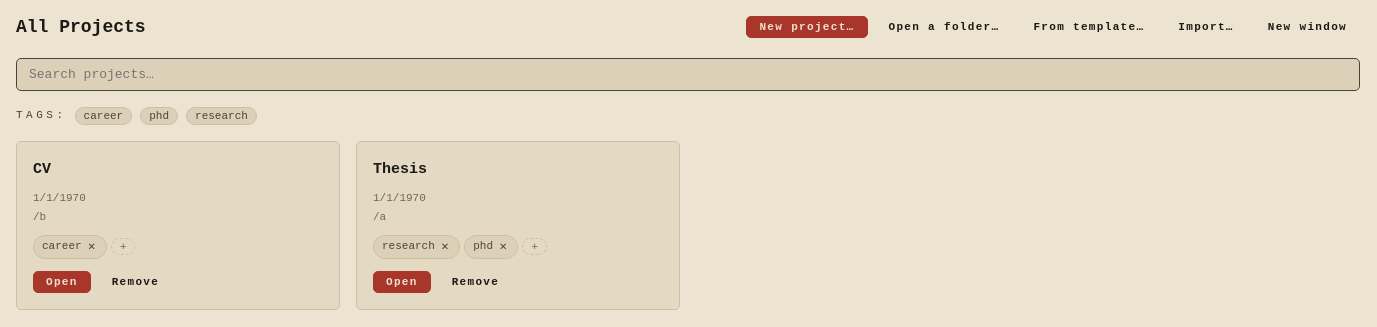
ProjectDashboard tag filters › filters by tag when a pill is clicked
'career' tag pill
Click the button "career".
click(103, 116)  # box [75,107,132,125]
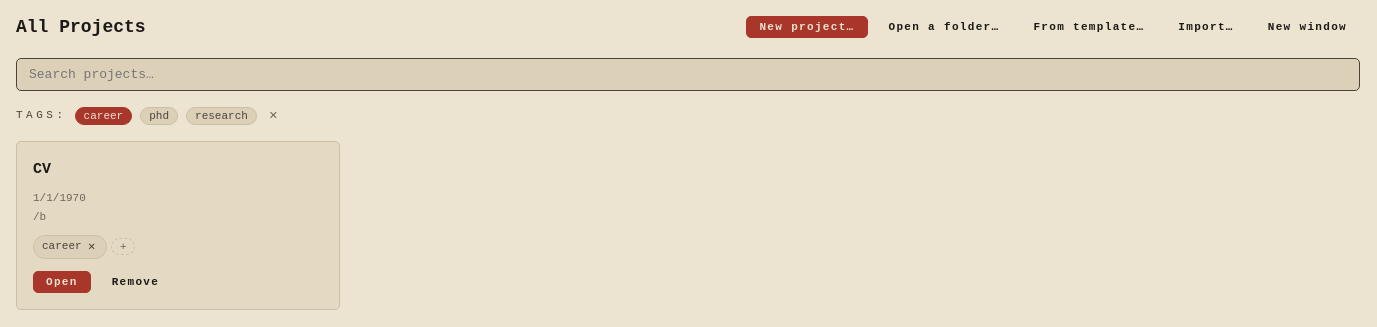
Expected: the text "CV" is shown, [33,161,51,178]
Expected: the text "Thesis" is gone
